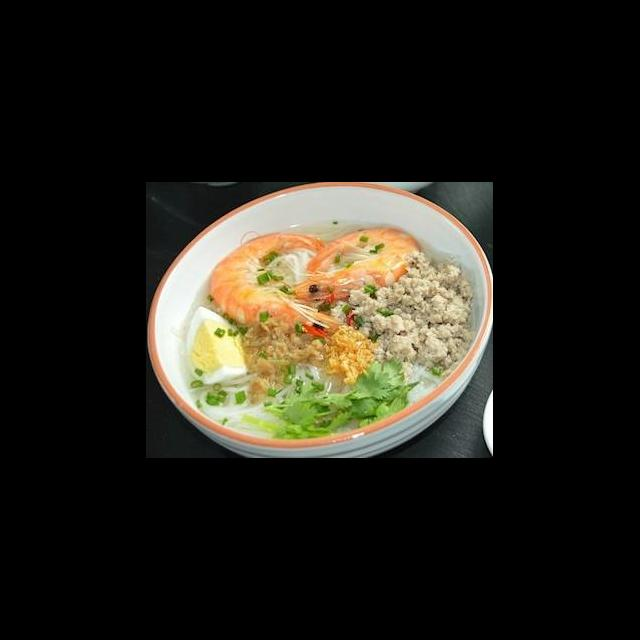banh hu tieu: (182, 362, 341, 442), (394, 352, 446, 409), (266, 246, 324, 283)
hu tieu: (147, 212, 493, 458)
thit bam: (342, 249, 479, 380)
tom: (206, 226, 348, 340), (288, 224, 428, 312)
trung: (180, 303, 252, 386)
